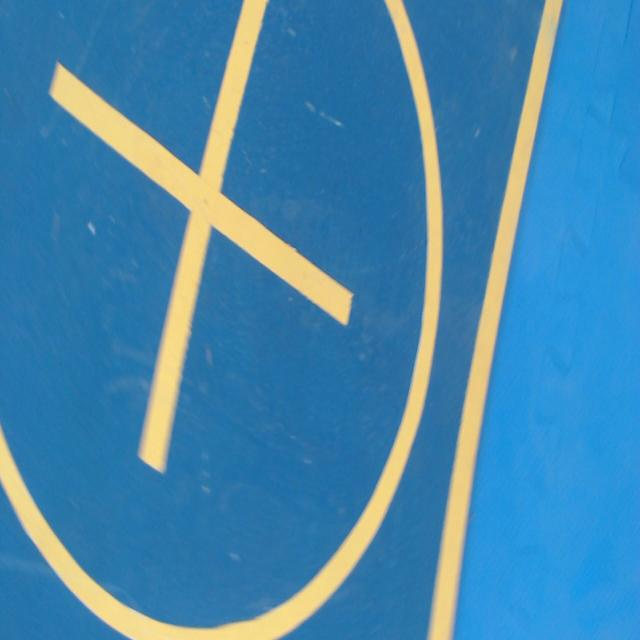base_pouso: (1, 0, 565, 639)
